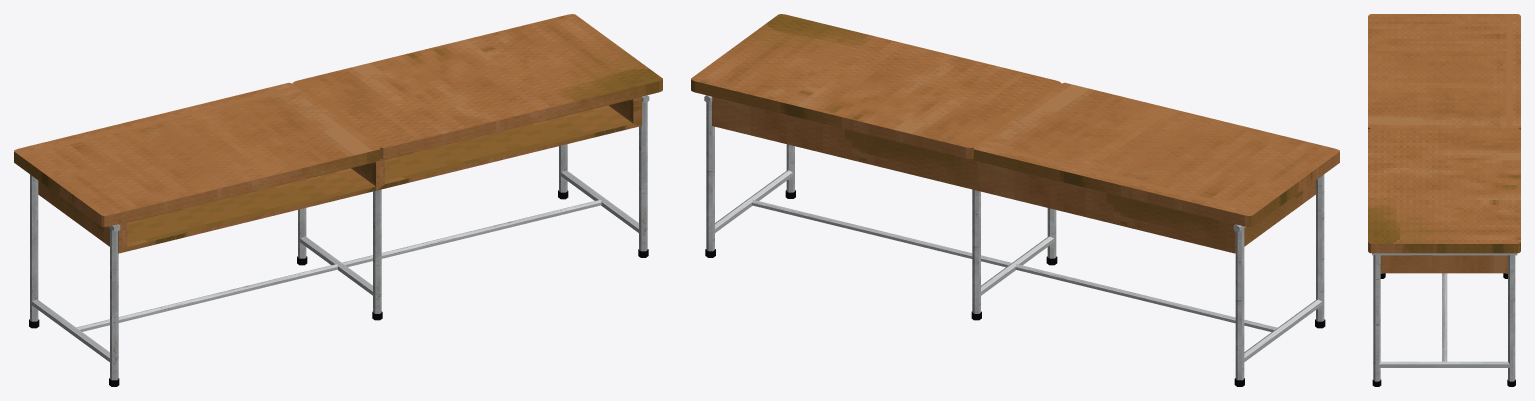
File: Tavolo_3.fbx
3 views of the same model, side by side, from view 1: azimuth 30°, elevation 25°; view 2: azimuth 150°, elevation 25°; view 3: azimuth 270°, elevation 25° (orthographic). The views are drawn at different scales.
Parts seen in each view (by area): view 1: Cylinder.025; view 2: Cylinder.025; view 3: Cylinder.025.
Boxes of the visible parts, box(x1,y1,x2,y2) form: Cylinder.025: box(14, 14, 662, 386); Cylinder.025: box(691, 14, 1339, 386); Cylinder.025: box(1368, 14, 1520, 386).
Bounding box in the file's own units: 3.97 × 1.19 × 1.11.
Materials: 3 (2 with a texture image).
